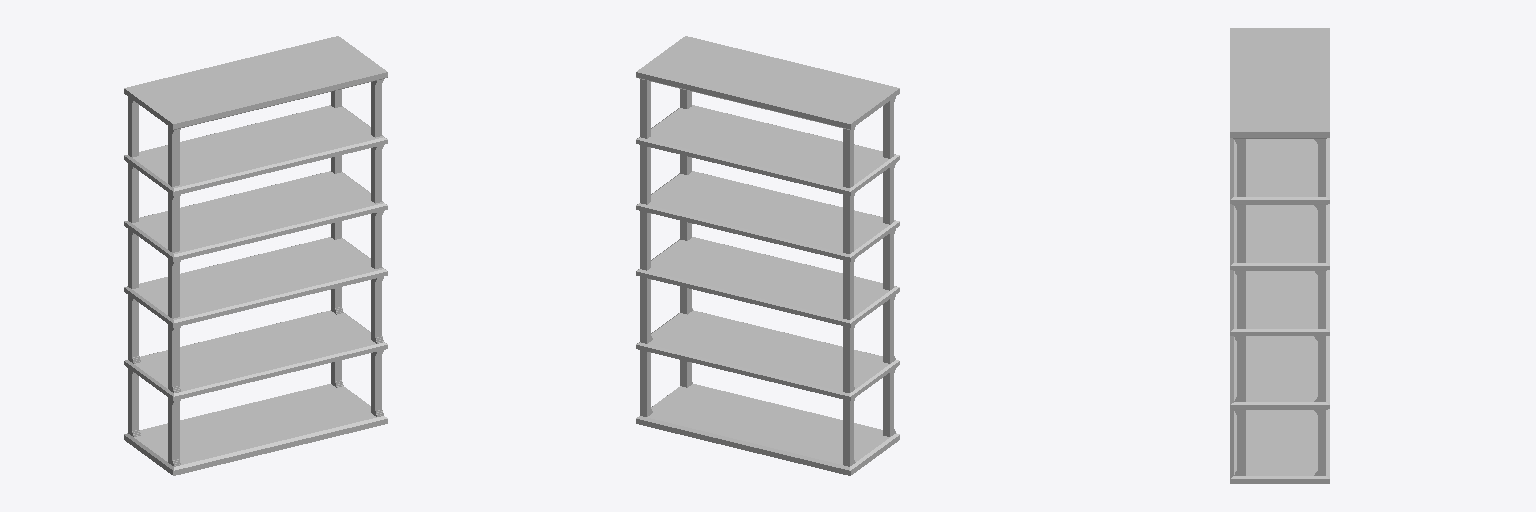
File: Repisera_2.obj
The picture shows the model from 3 angles: view 1: azimuth 30°, elevation 25°; view 2: azimuth 150°, elevation 25°; view 3: azimuth 270°, elevation 25°; orthographic projection.
Visible parts, largest first — view 1: Repisera_2:pCube57 Repisera_2:Repisera_2; view 2: Repisera_2:pCube57 Repisera_2:Repisera_2; view 3: Repisera_2:pCube57 Repisera_2:Repisera_2.
Boxes of the visible parts, x1=… form: Repisera_2:pCube57 Repisera_2:Repisera_2: x1=124, y1=36, x2=387, y2=475; Repisera_2:pCube57 Repisera_2:Repisera_2: x1=636, y1=36, x2=899, y2=475; Repisera_2:pCube57 Repisera_2:Repisera_2: x1=1230, y1=28, x2=1329, y2=483.
Bounding box in the file's own units: 1500 × 2350 × 600.